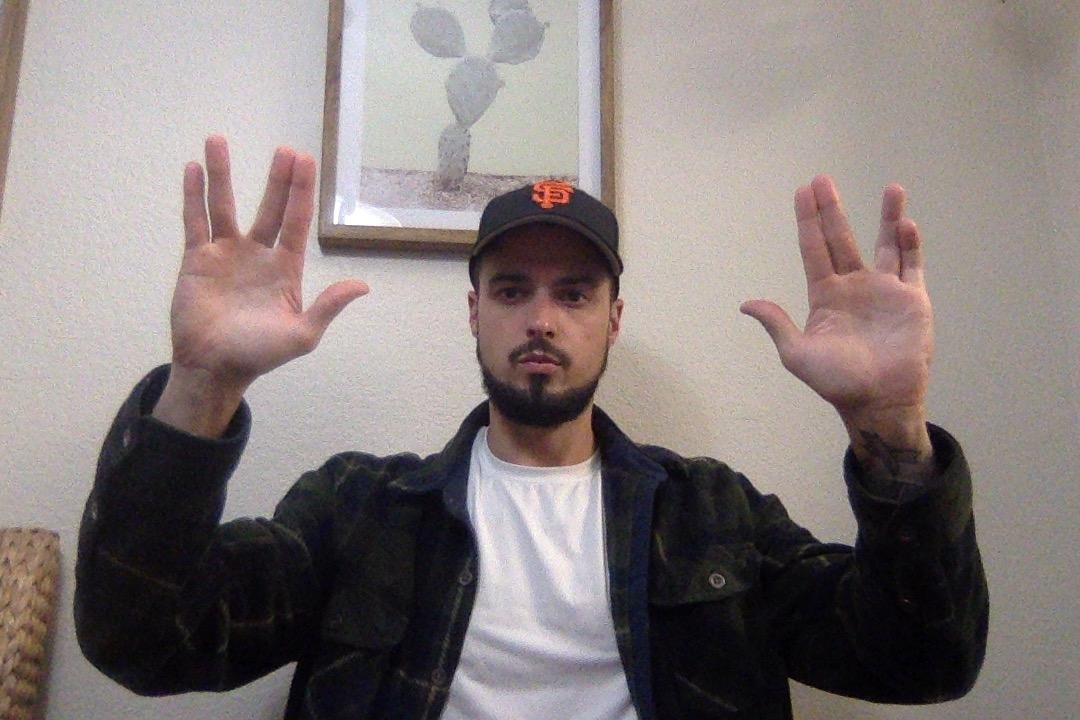Live-Long-Prosper: (168, 128, 373, 417), (733, 168, 942, 427)
